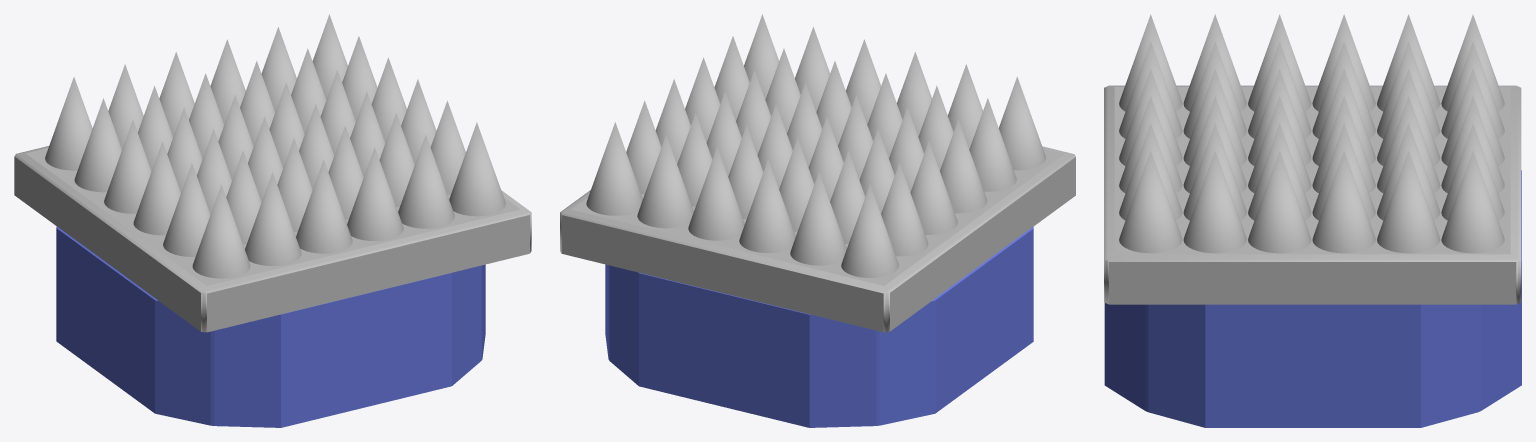
The model's file is PlatformsJumpSpike.fbx.
3 renders of one model, left to right at view 1: azimuth 30°, elevation 25°; view 2: azimuth 150°, elevation 25°; view 3: azimuth 270°, elevation 25°, orthographic. The views are drawn at different scales.
Visible parts, largest first — view 1: Cone.002, BouncePad.003, Spikes.002; view 2: Cone.002, BouncePad.003, Spikes.002; view 3: Cone.002, BouncePad.003, Spikes.002.
Boxes of the visible parts, x1,y1,x2,y2 form: Cone.002: (45,14,505,278); BouncePad.003: (56,226,485,427); Spikes.002: (14,146,531,332); Cone.002: (586,14,1045,277); BouncePad.003: (605,227,1033,427); Spikes.002: (560,146,1075,332); Cone.002: (1119,14,1504,253); BouncePad.003: (1104,170,1521,427); Spikes.002: (1104,85,1521,304).
Size of the model in its own units: 151 by 104 by 150.
